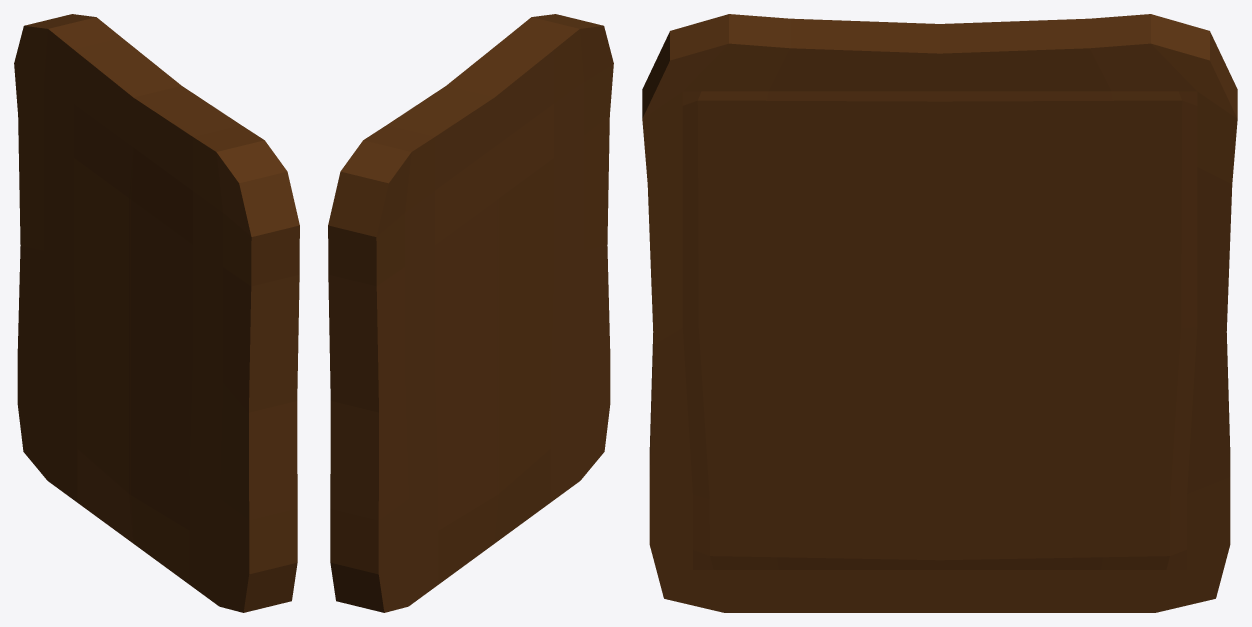
The model's file is QmPzbE1TJ78QmKQJxL9xjBf2mQzxvFfnVgnJciS9R847Z7.gltf.
3 renders of one model, left to right at view 1: azimuth 30°, elevation 25°; view 2: azimuth 150°, elevation 25°; view 3: azimuth 270°, elevation 25°, orthographic. The views are drawn at different scales.
Visible parts, largest first — view 1: Cube; view 2: Cube; view 3: Cube.
Boxes of the visible parts, x1,y1,x2,y2 form: Cube: (14,14,299,612); Cube: (328,14,613,612); Cube: (642,14,1237,612).
Bounding box in the file's own units: 0.2565 × 2.1 × 1.99.
